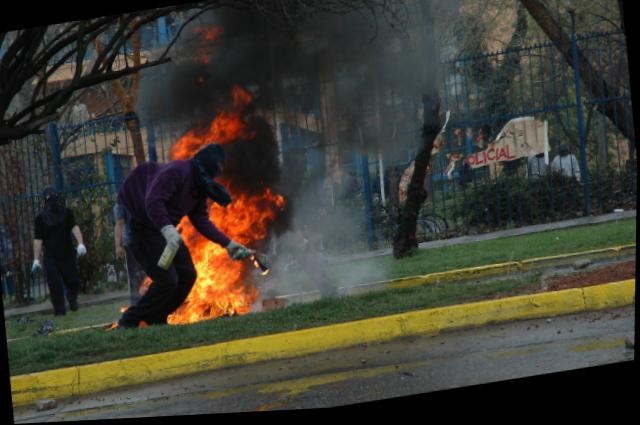fire: (122, 75, 296, 330)
